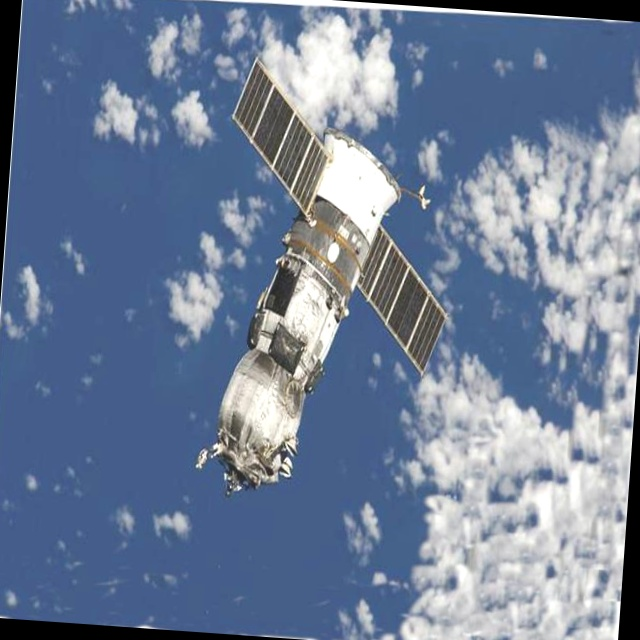medium_debris: (190, 52, 471, 507)
